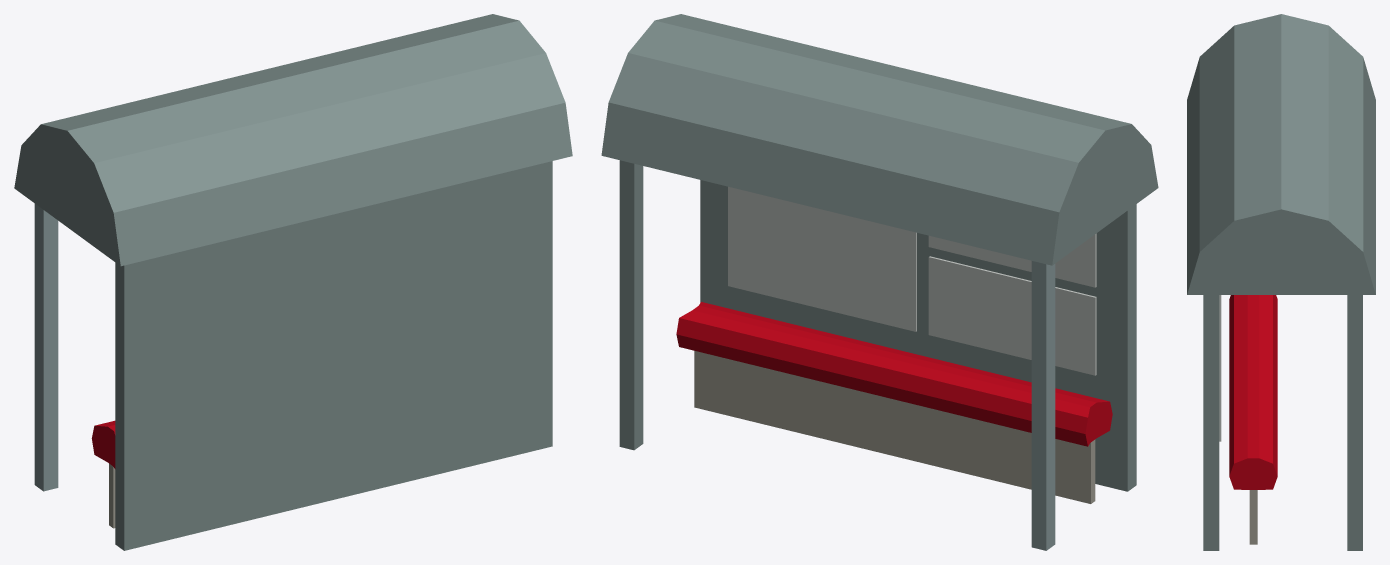
Rendered from BusStop.fbx.
The picture shows the model from 3 angles, left to right: view 1: azimuth 30°, elevation 25°; view 2: azimuth 150°, elevation 25°; view 3: azimuth 270°, elevation 25°; orthographic projection. The views are drawn at different scales.
Parts seen in each view (by area): view 1: Cube.001, Cylinder, Cube.002, Cylinder.001; view 2: Cylinder, Cube.001, Cube.003, Cylinder.001, Cube.004, Cube.006, Cube.002, Cube, Cube.005; view 3: Cylinder, Cylinder.001, Cube.001, Cube, Cube.003, Cube.004.
Part boxes in pixels (bbox=[...]): Cube.001: bbox=[115, 161, 552, 550]; Cylinder: bbox=[14, 14, 572, 266]; Cube.002: bbox=[34, 203, 58, 491]; Cylinder.001: bbox=[91, 420, 115, 468]; Cylinder: bbox=[601, 14, 1158, 265]; Cube.001: bbox=[700, 180, 1136, 491]; Cube.003: bbox=[694, 351, 1095, 503]; Cylinder.001: bbox=[676, 302, 1112, 446]; Cube.004: bbox=[728, 186, 916, 331]; Cube.006: bbox=[928, 256, 1096, 375]; Cube.002: bbox=[1031, 261, 1055, 550]; Cube: bbox=[619, 160, 643, 450]; Cube.005: bbox=[928, 233, 1096, 287]; Cylinder: bbox=[1187, 14, 1375, 294]; Cylinder.001: bbox=[1229, 295, 1277, 489]; Cube.001: bbox=[1203, 295, 1219, 550]; Cube: bbox=[1347, 295, 1362, 550]; Cube.003: bbox=[1249, 490, 1257, 544]; Cube.004: bbox=[1219, 295, 1221, 441].
Bounding box in the file's own units: 616 × 510 × 252.
